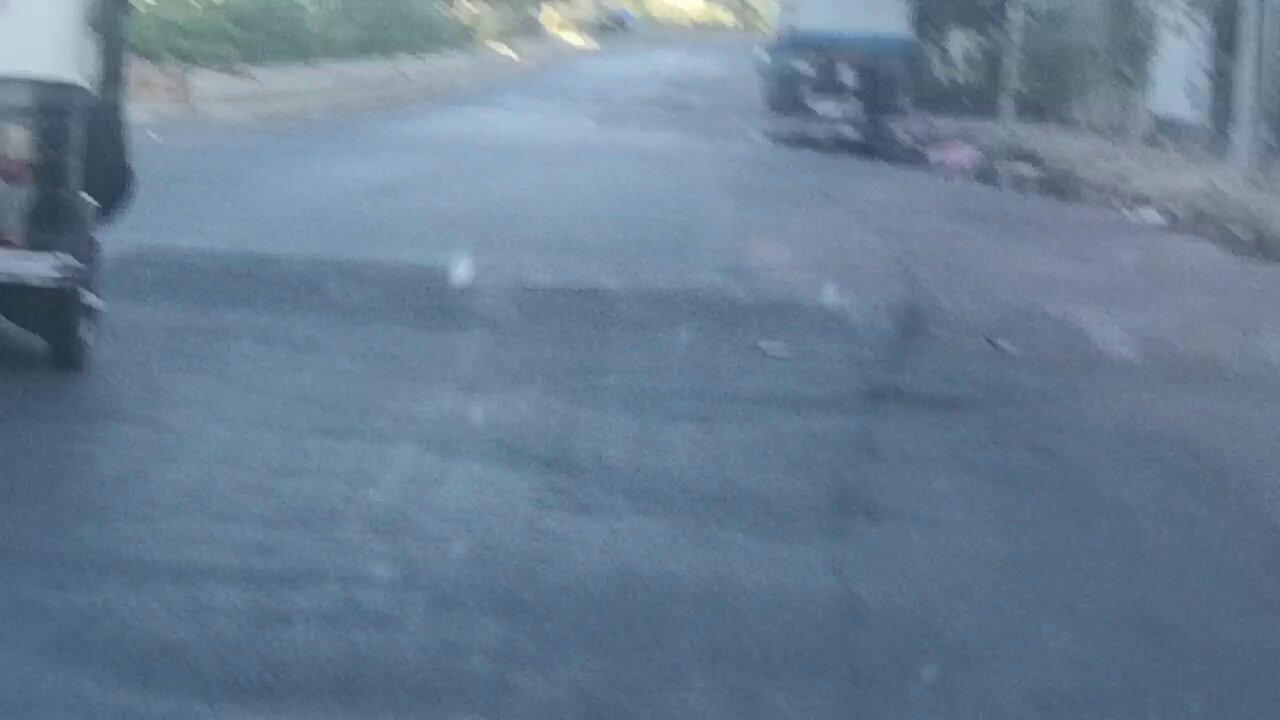Bump: (145, 238, 1280, 395)
